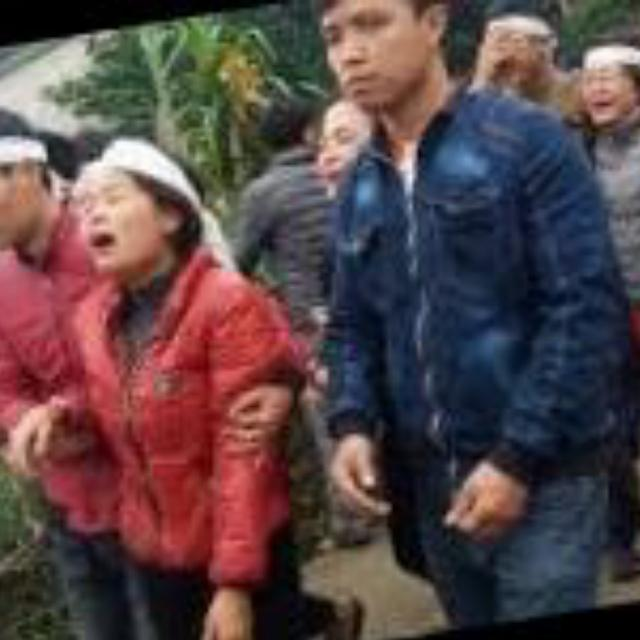Sad: (306, 9, 439, 98), (74, 160, 179, 265), (0, 122, 60, 261), (293, 120, 390, 202), (483, 25, 555, 89), (586, 61, 640, 146)
